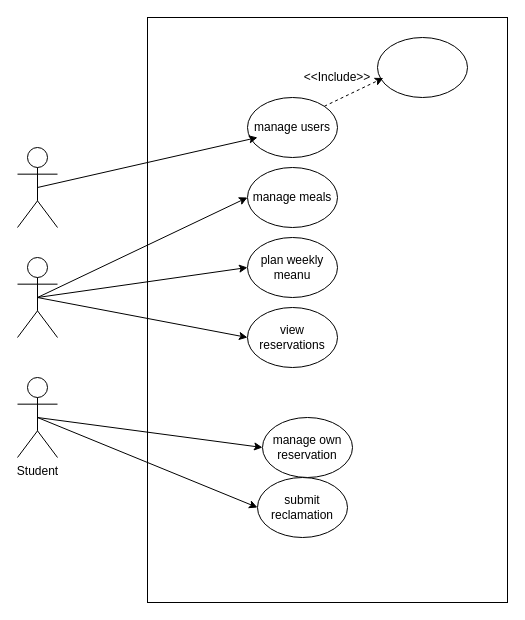
Image size: 525x620. Some labels were removed from this diagram. Here are the shapes that lost their labels. From the top down, the centre of each, then its label:
At (x=422, y=67): "login".
At (x=37, y=187): "Admin".
At (x=37, y=297): "Staff".
